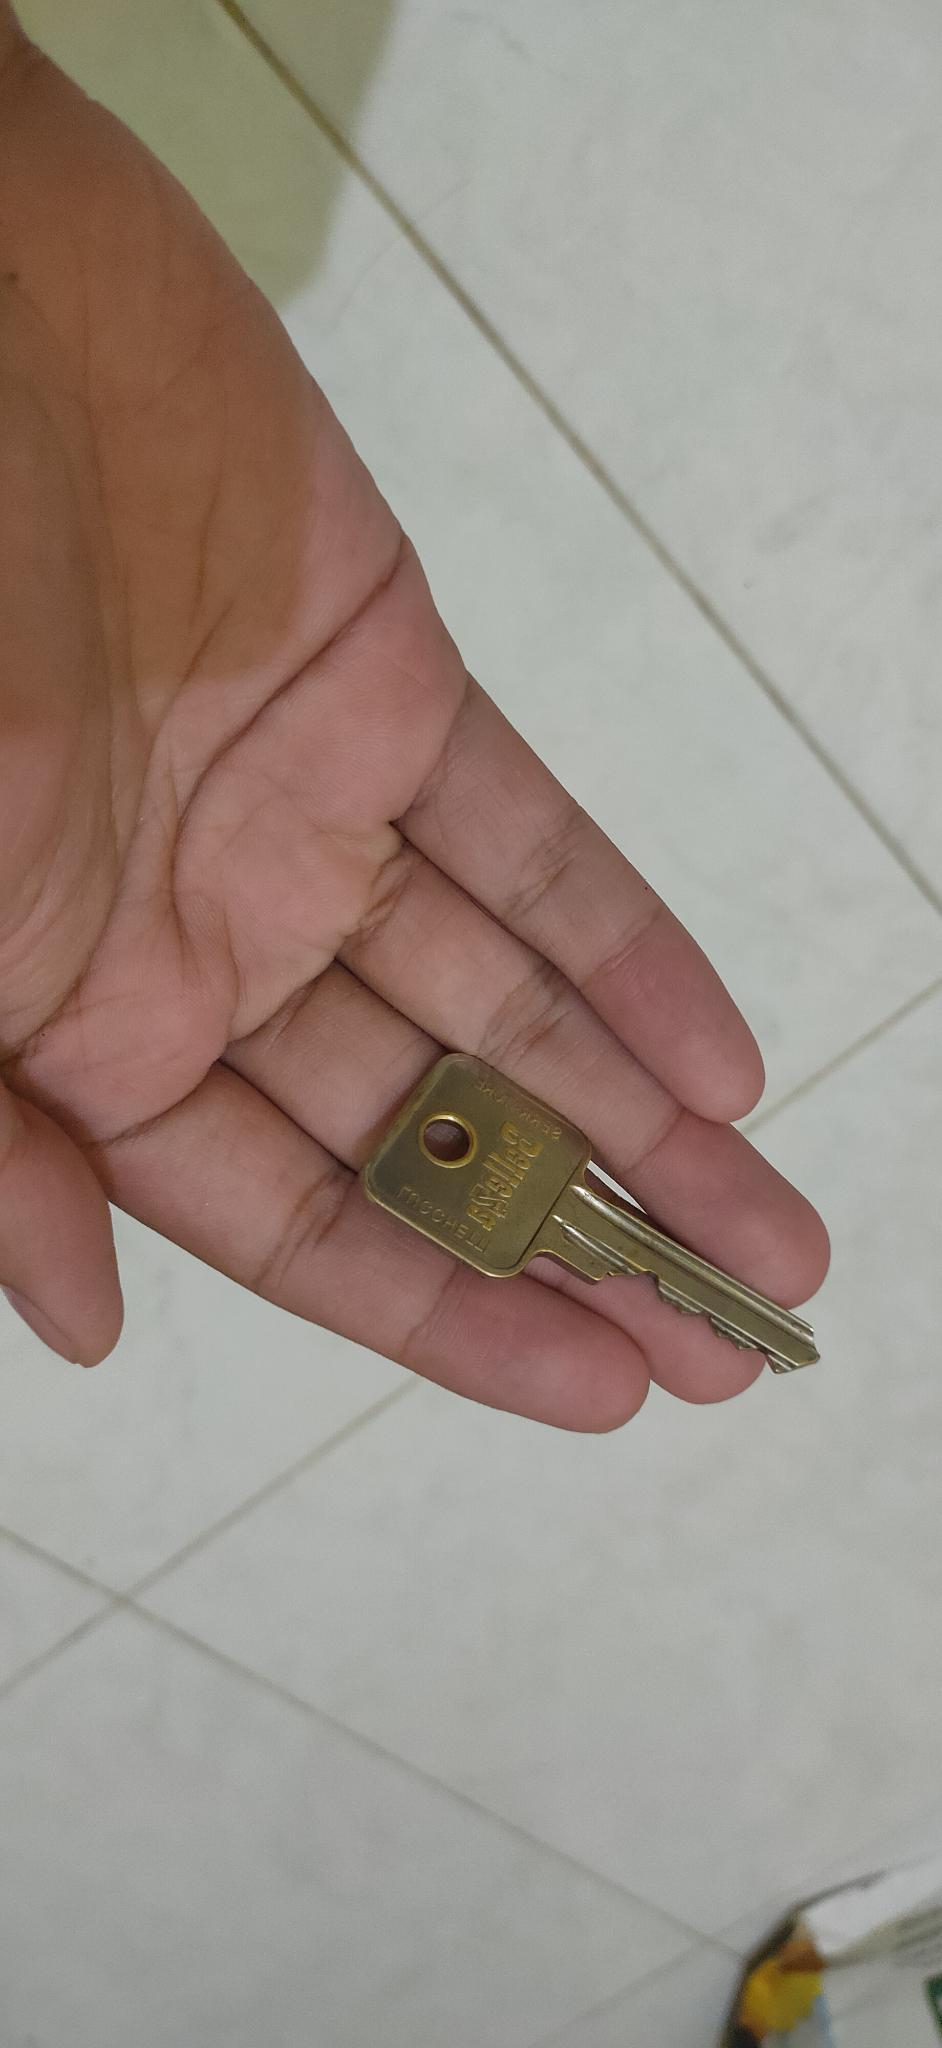keys: (345, 1045, 845, 1401)
